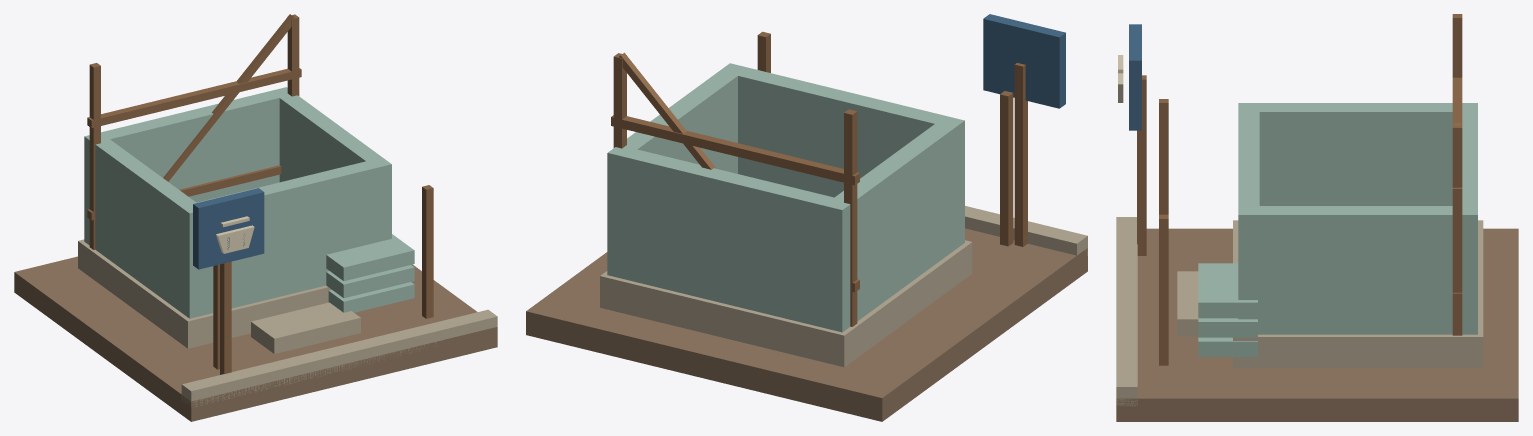
The model's file is grocery-seabreeze-half-built.glb.
3 views of the same model, side by side, from view 1: azimuth 30°, elevation 25°; view 2: azimuth 150°, elevation 25°; view 3: azimuth 270°, elevation 25° (orthographic). The views are drawn at different scales.
Visible parts, largest first — view 1: grocery; view 2: grocery; view 3: grocery.
Boxes of the visible parts, x1,y1,x2,y2 form: grocery: [14, 14, 497, 421]; grocery: [526, 14, 1087, 421]; grocery: [1116, 14, 1518, 421].
Size of the model in its own units: 1.88 by 1.38 by 1.88.
